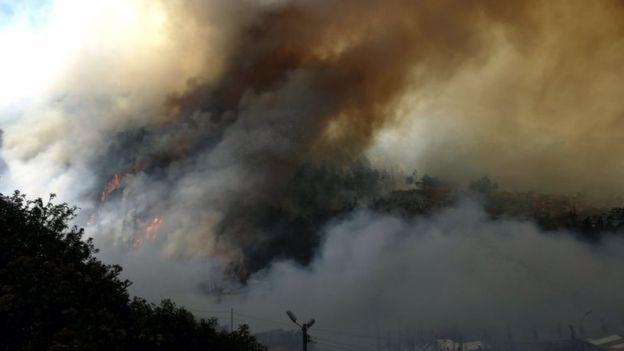smoke: (74, 1, 538, 267)
